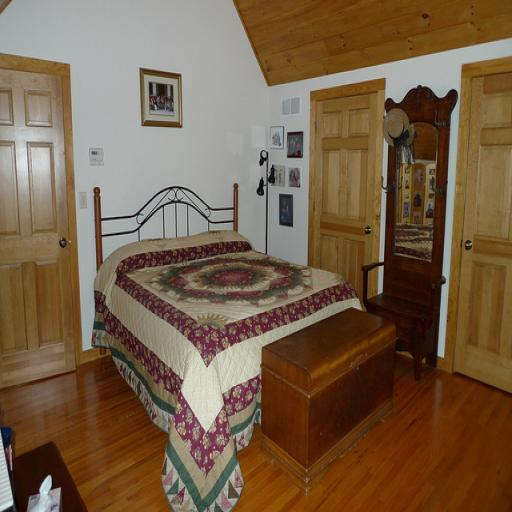bed: (79, 168, 369, 455)
